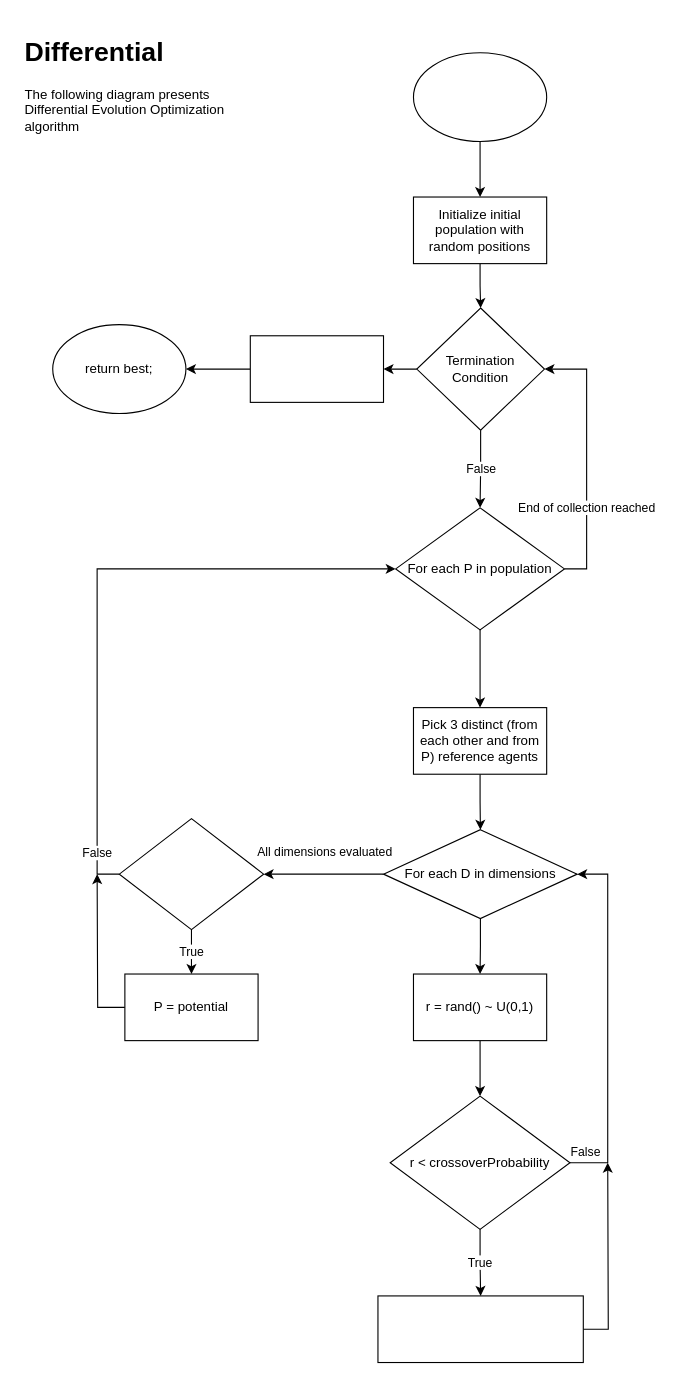
Some shapes in this 674 by 1382 pixel diagram are drawn without their labels. The centre of each missing label's shape, as x and y in pixels:
"f(potential) < f(P)" belongs at pixel 191 874.
"Find agent with best fitness" belongs at pixel 316 368.
"potential[D] = agent[0][D] + (weight * (agent[1][D] - agent[2][D]))" belongs at pixel 480 1329.
"Start" belongs at pixel 479 97.
